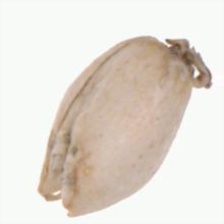L1: (33, 138, 81, 214), (153, 33, 214, 89)
L2: (37, 35, 212, 216)
